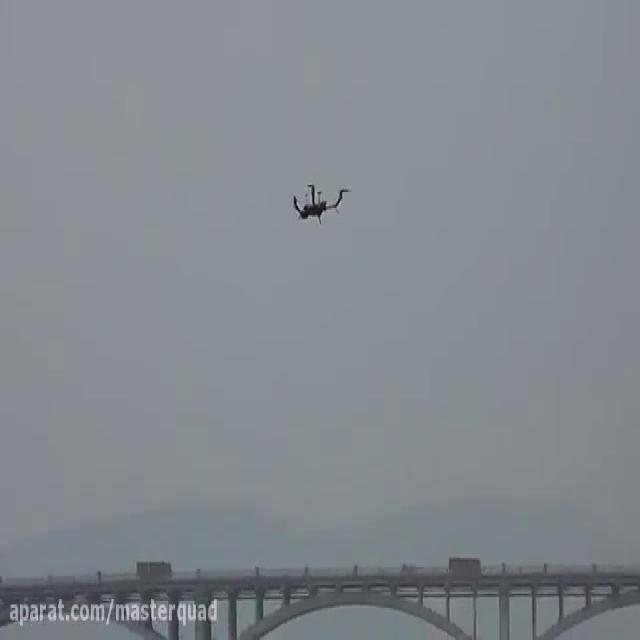drone: (287, 172, 352, 230)
